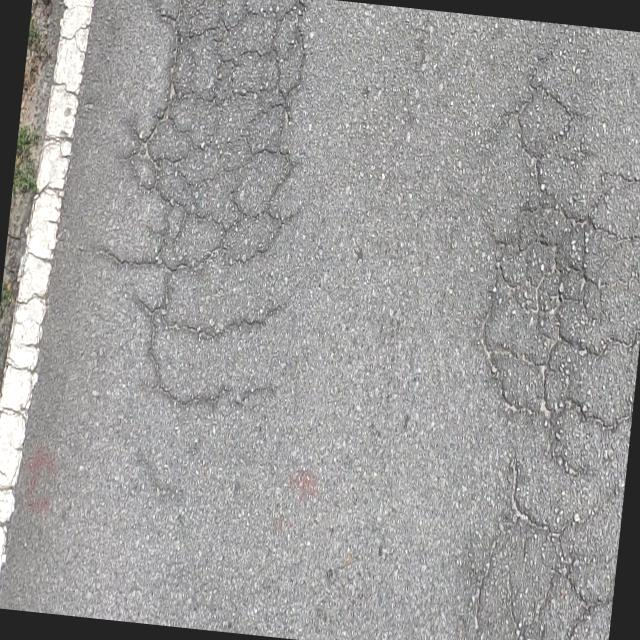Retak-Buaya: (471, 48, 640, 640), (83, 0, 309, 411)
